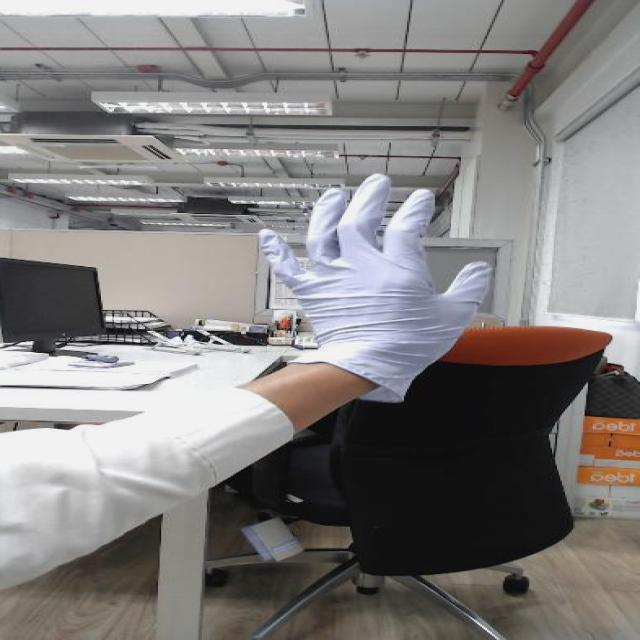glove: (245, 152, 517, 353)
